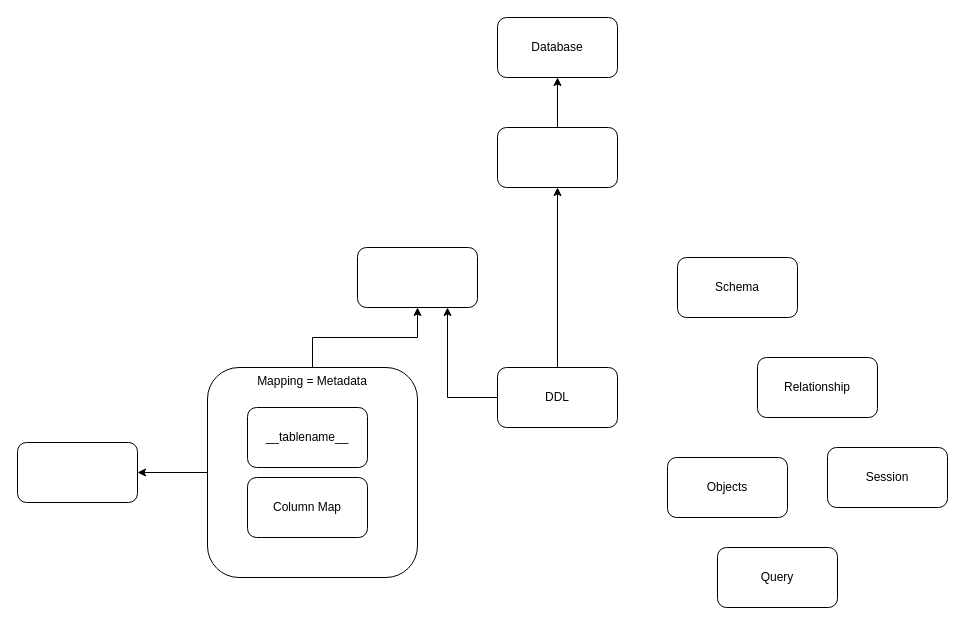
This 965x625 diagram has some shape labels left out. Here are the shapes that lost their labels. From the top down, the centre of each, then its label:
the point at 557,157: Engine
the point at 417,277: Base
the point at 77,472: Data Types
